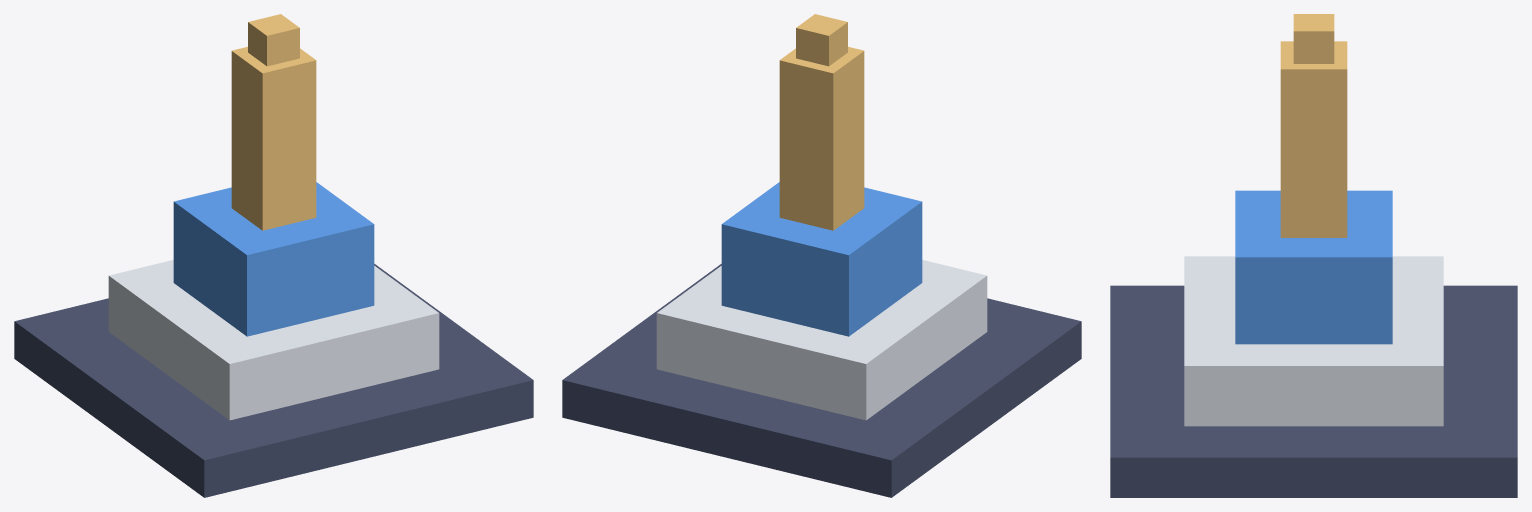
The model's file is demo-monument.glb.
3 views of the same model, side by side, from view 1: azimuth 30°, elevation 25°; view 2: azimuth 150°, elevation 25°; view 3: azimuth 270°, elevation 25° (orthographic). The views are drawn at different scales.
Parts seen in each view (by area): view 1: demo-monument; view 2: demo-monument; view 3: demo-monument.
Part boxes in pixels (box(x1,y1,x2,y2)): demo-monument: box(14, 14, 533, 497); demo-monument: box(562, 14, 1081, 497); demo-monument: box(1110, 14, 1517, 497).
Size of the model in its own units: 2.2 by 2.32 by 2.2.
